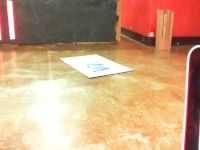switch: (6, 1, 16, 40)
